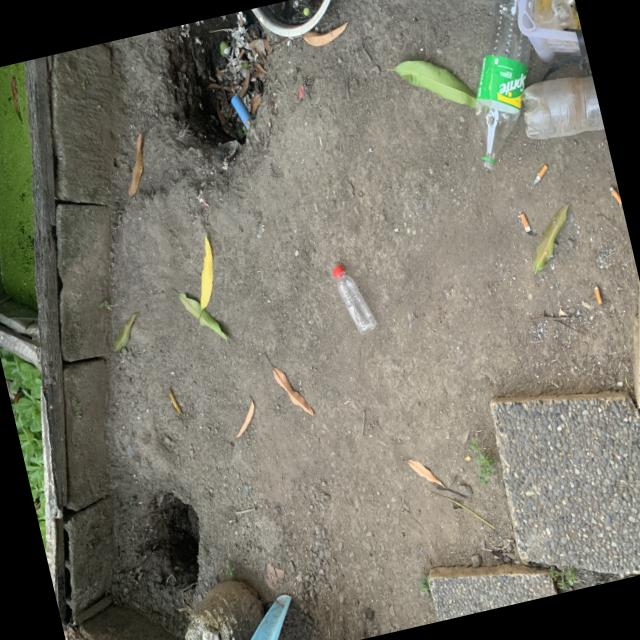Bottle: (332, 263, 376, 333)
